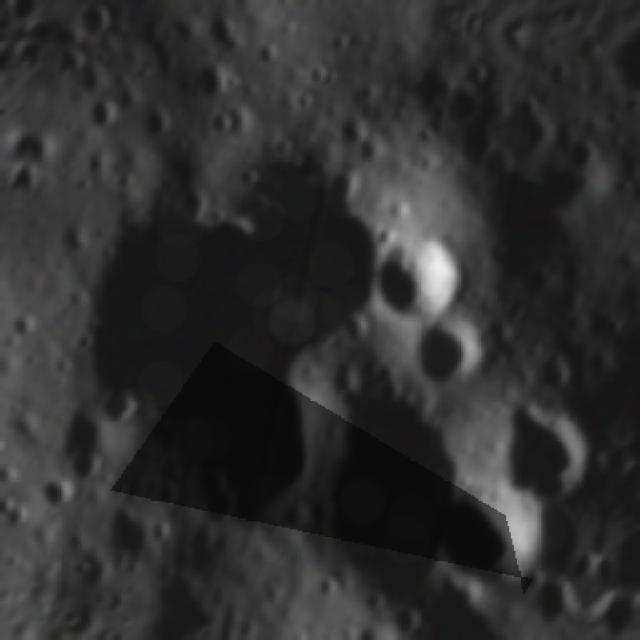crater: (427, 472, 556, 602), (485, 400, 607, 515), (365, 233, 477, 330), (406, 316, 488, 396), (521, 574, 581, 634), (60, 435, 111, 488), (94, 384, 146, 431), (189, 60, 234, 106), (353, 128, 393, 172), (386, 601, 426, 640), (0, 493, 35, 535), (141, 106, 177, 143), (328, 168, 363, 204), (512, 564, 548, 598), (233, 164, 264, 193), (571, 551, 597, 583), (348, 623, 388, 640), (148, 520, 174, 546), (0, 440, 3, 480)
